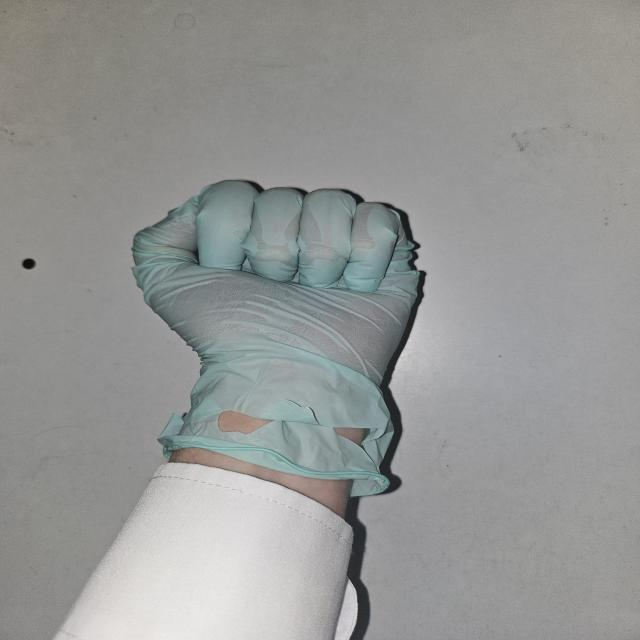gloves_damaged: (130, 178, 426, 508)
